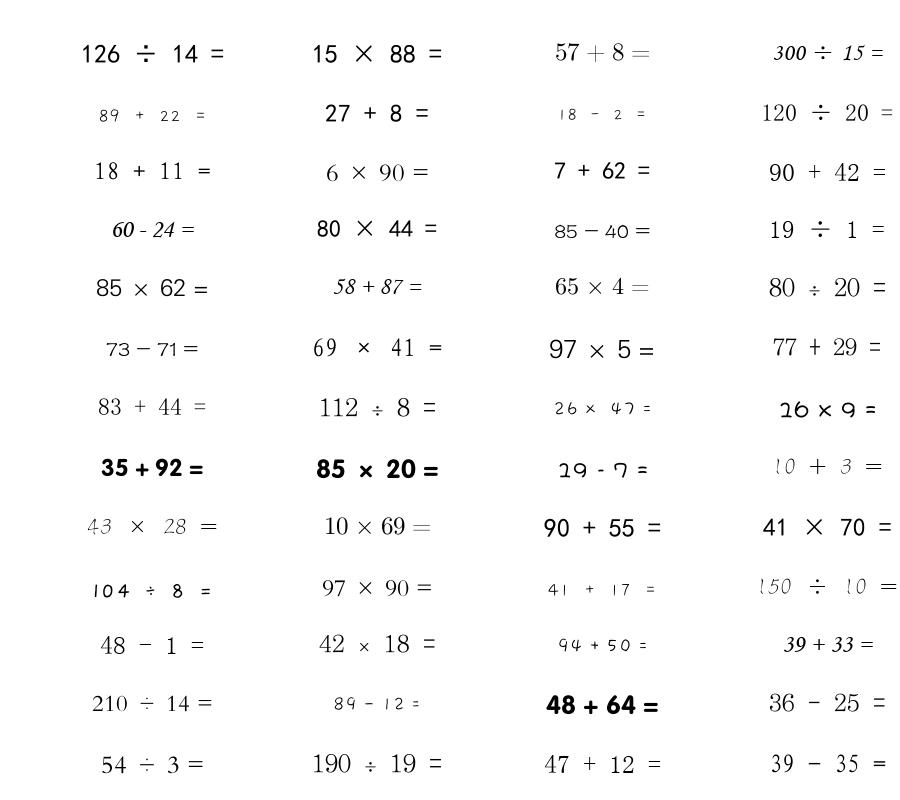MQ: (81, 44, 224, 63), (312, 753, 442, 773), (312, 44, 442, 63), (312, 338, 442, 357), (316, 459, 439, 479), (763, 518, 892, 537), (756, 578, 898, 595), (769, 277, 886, 297), (319, 397, 436, 417), (544, 518, 661, 538), (546, 695, 659, 715), (761, 104, 893, 121), (87, 518, 218, 535), (319, 634, 436, 653), (769, 693, 886, 712), (769, 754, 886, 773), (317, 220, 437, 238), (96, 278, 209, 297), (549, 339, 655, 359), (94, 162, 211, 180), (769, 163, 886, 181), (544, 755, 661, 773), (769, 220, 885, 238), (92, 695, 213, 712), (773, 338, 881, 356), (101, 458, 203, 477), (324, 517, 431, 535), (555, 43, 650, 63), (772, 458, 883, 475), (322, 580, 433, 597), (325, 104, 429, 122), (100, 636, 204, 654), (326, 164, 429, 182), (101, 756, 204, 774), (98, 398, 206, 415), (92, 583, 213, 598), (772, 45, 883, 61), (555, 277, 650, 295), (778, 401, 877, 418), (554, 162, 650, 179), (332, 278, 422, 295), (98, 109, 207, 123), (557, 462, 648, 478), (554, 224, 650, 239), (110, 221, 194, 238), (548, 584, 657, 597), (553, 402, 652, 416), (557, 638, 648, 653), (782, 637, 873, 652), (106, 342, 198, 356), (333, 697, 421, 711), (557, 108, 647, 121)
